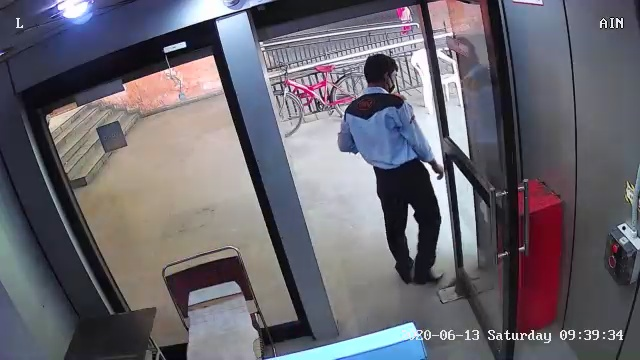open: (205, 4, 537, 357)
